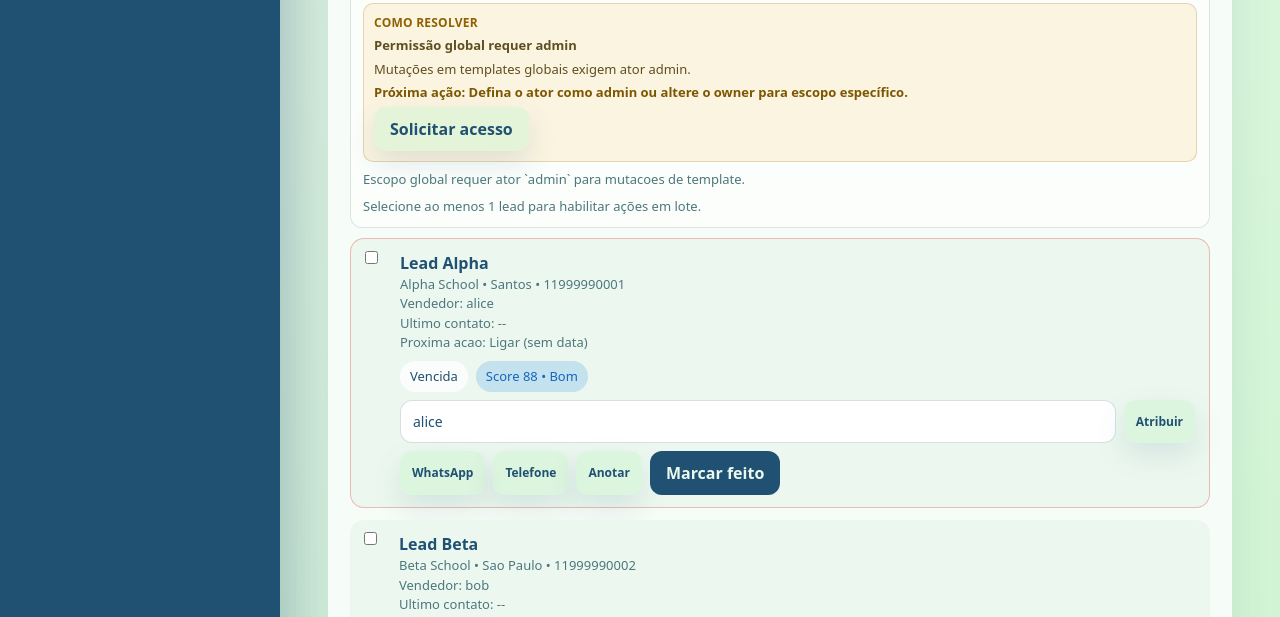
Test: SDR page › sends batch assign request for selected leads
(page scrolled)
expect the text "Lead Alpha" is shown: met, box [400,252,489,274]
expect the text "Lead Beta" is shown: met, box [399,533,478,555]
Click the checkbox named "Selecionar lead 1" at (372, 257), box [365,250,378,264]
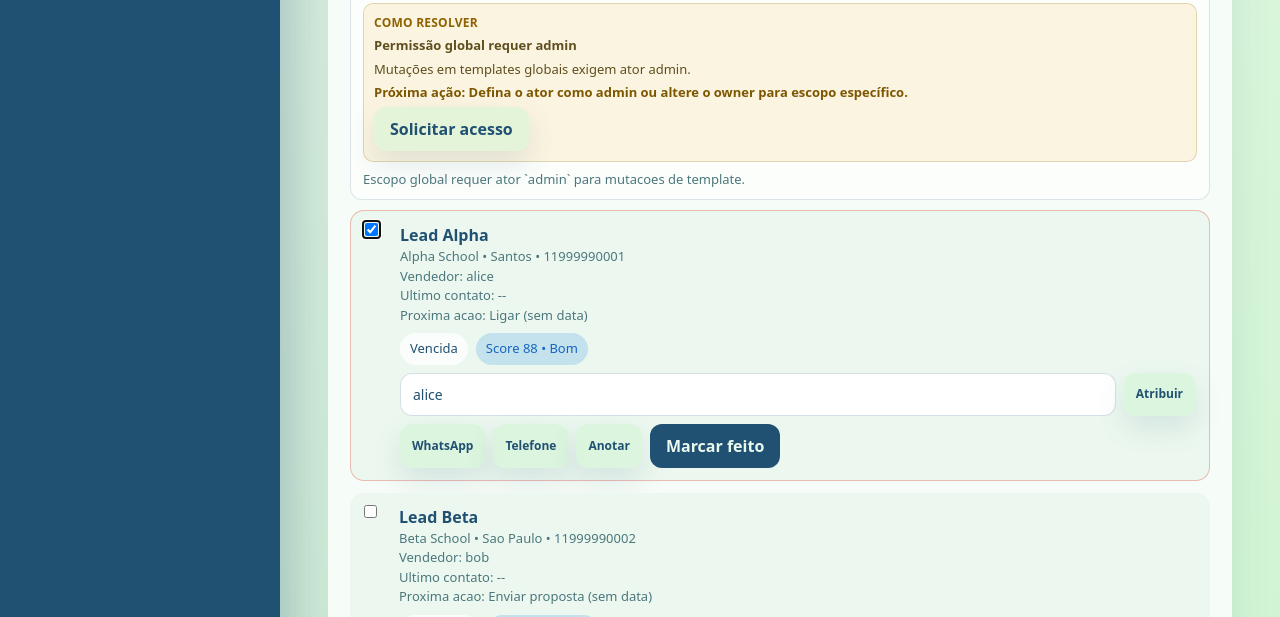
Click the checkbox named "Selecionar lead 2" at (370, 511), box [364,504,377,518]
(page scrolled)
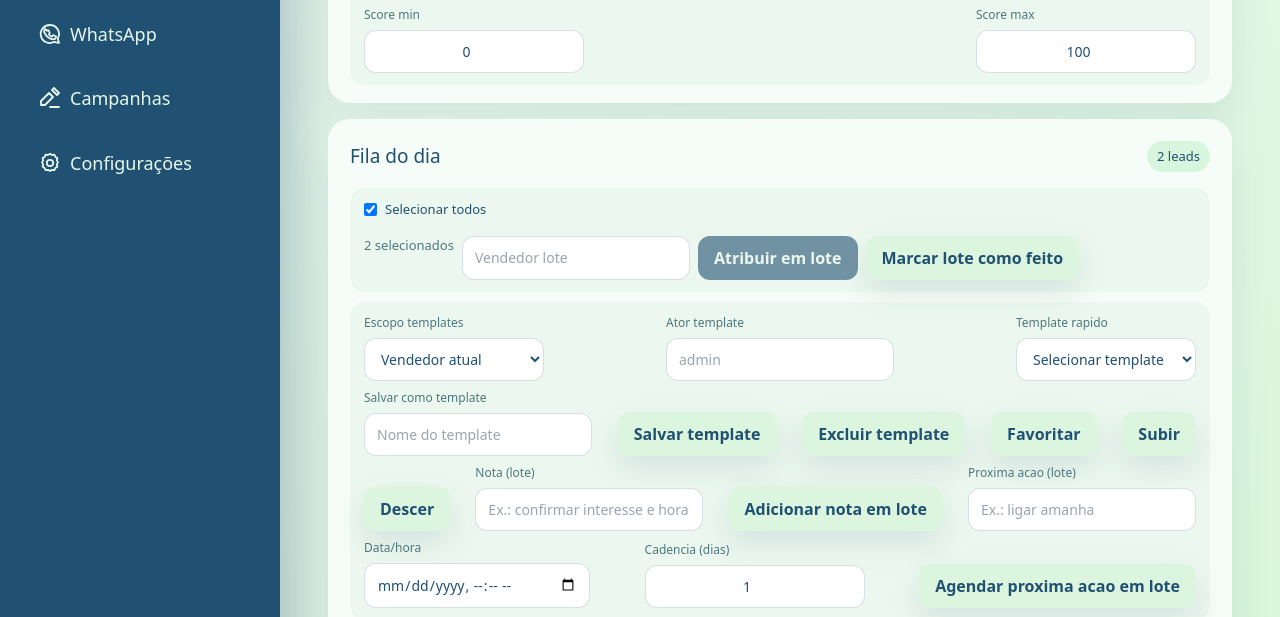
Type "danilo" into the field with placeholder "Vendedor lote" at (576, 258), box [462,236,690,280]
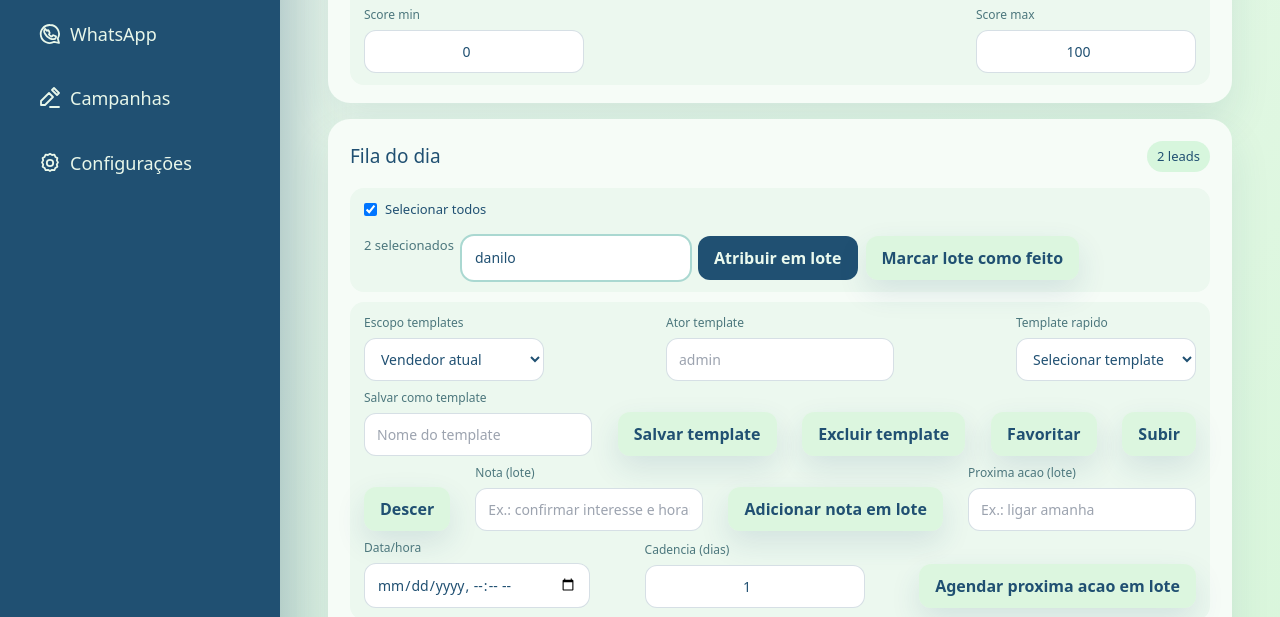
Click the button "Atribuir em lote" at (778, 258), box [698,236,858,280]
(page scrolled)
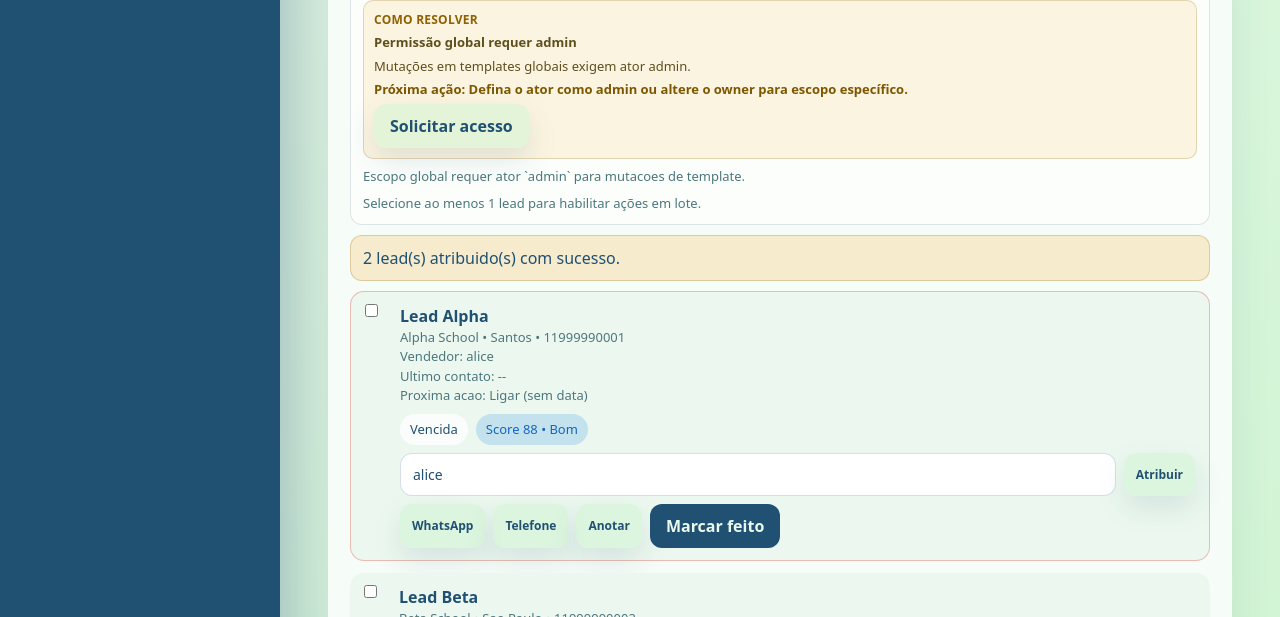
expect the text "2 lead(s) atribuido(s) com sucesso." is shown: met, box [350,234,1210,280]
